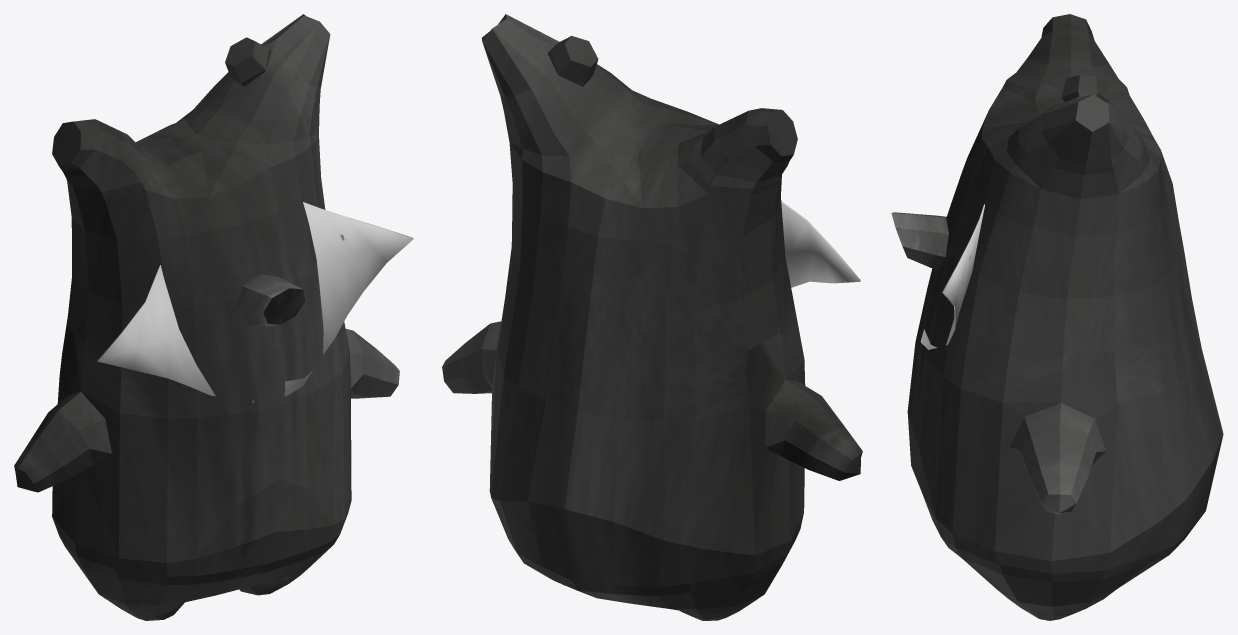
The model's file is frame_0005.obj.
3 renders of one model, left to right at view 1: azimuth 30°, elevation 25°; view 2: azimuth 150°, elevation 25°; view 3: azimuth 270°, elevation 25°, orthographic. The views are drawn at different scales.
Parts seen in each view (by area): view 1: korok, leaf, nose; view 2: korok, leaf; view 3: korok, nose, leaf.
Boxes of the visible parts, left/top/right/bottom form: korok: left=14, top=14, right=399, bottom=620; leaf: left=97, top=202, right=413, bottom=402; nose: left=236, top=274, right=305, bottom=327; korok: left=442, top=14, right=862, bottom=620; leaf: left=781, top=201, right=860, bottom=287; korok: left=907, top=14, right=1223, bottom=620; nose: left=891, top=212, right=948, bottom=270; leaf: left=920, top=204, right=984, bottom=349.
Bounding box in the file's own units: 1.68 × 2.26 × 1.23.
